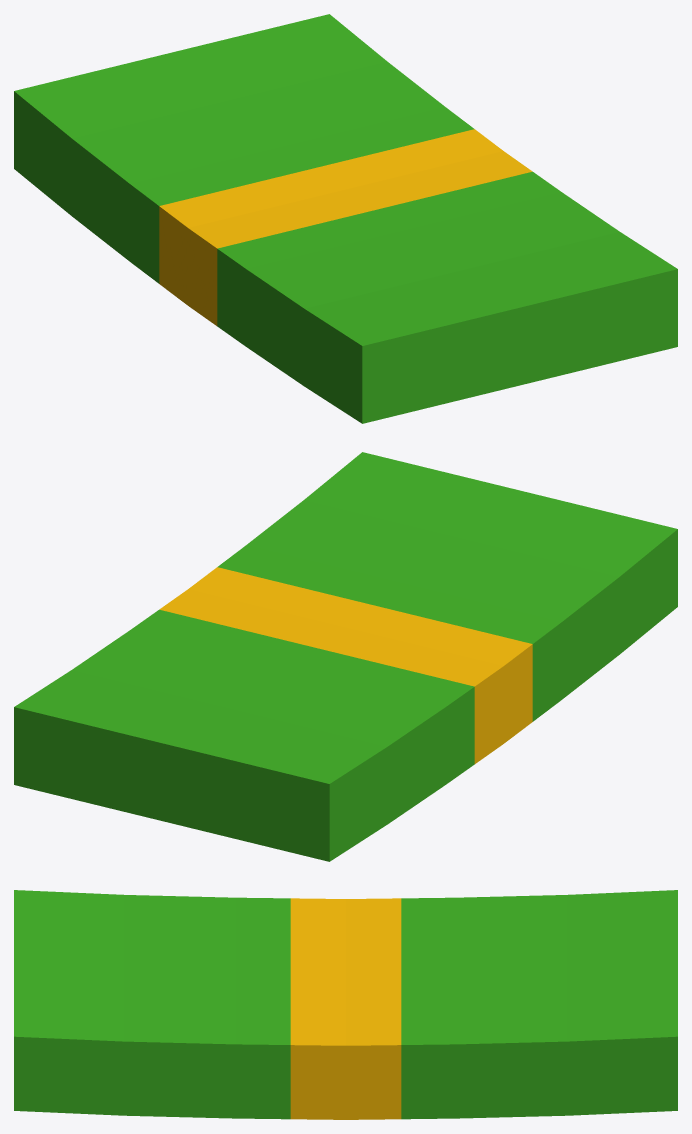
Rendered from money.fbx.
3 renders of one model, top to bottom at view 1: azimuth 30°, elevation 25°; view 2: azimuth 150°, elevation 25°; view 3: azimuth 270°, elevation 25°, orthographic. The views are drawn at different scales.
Parts seen in each view (by area): view 1: Cube.001; view 2: Cube.001; view 3: Cube.001.
Boxes of the visible parts, x1,y1,x2,y2 form: Cube.001: (14, 14, 677, 423); Cube.001: (14, 452, 677, 861); Cube.001: (14, 890, 677, 1119).
Size of the model in its own units: 47.4 by 12.54 by 90.65.
